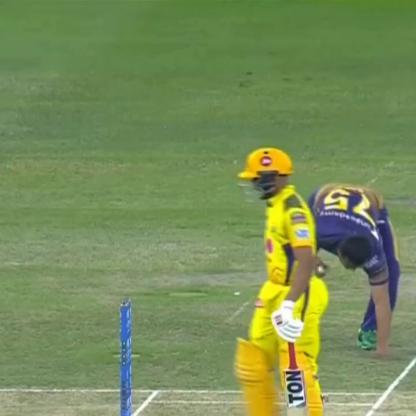ball: (314, 261, 332, 278)
